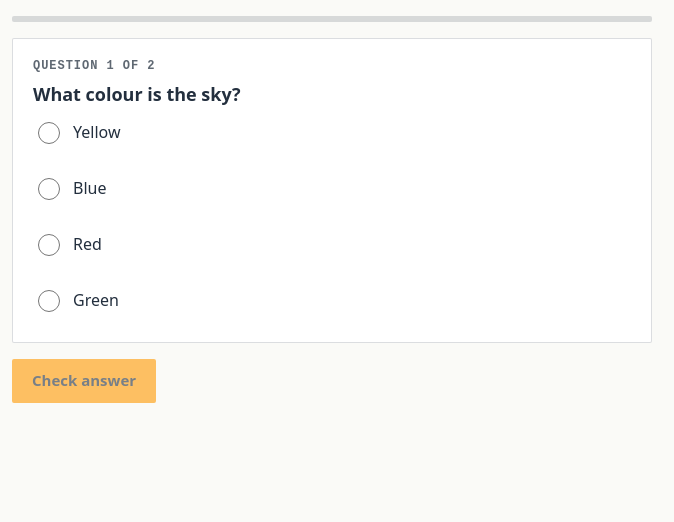
Scenario: Knowledge check › shows the right answer when one is wrong, and hands the question to Smiley
Click the radio button labelled "Green" at (49, 302), box [38,290,60,312]
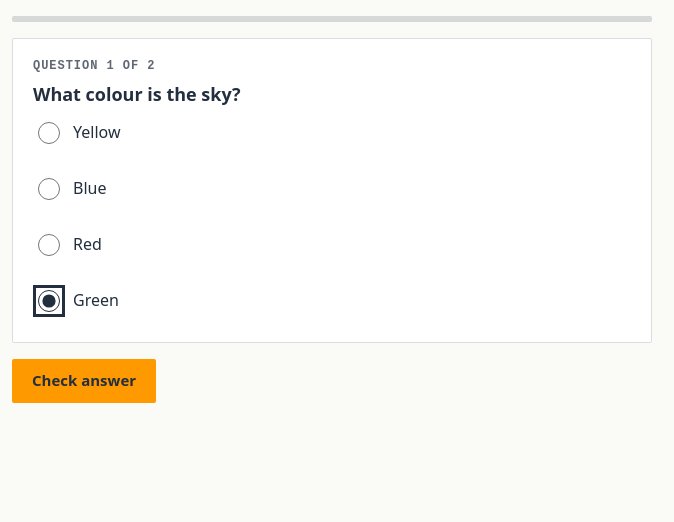
Click the button "Check answer" at (84, 381), box [12,359,156,403]
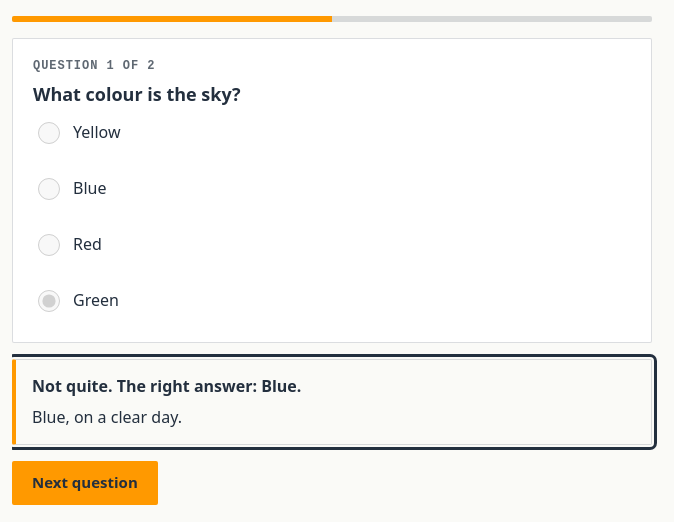
Check: the text "Not quite. The right answer: Blue." is shown, box [32,375,301,397]
